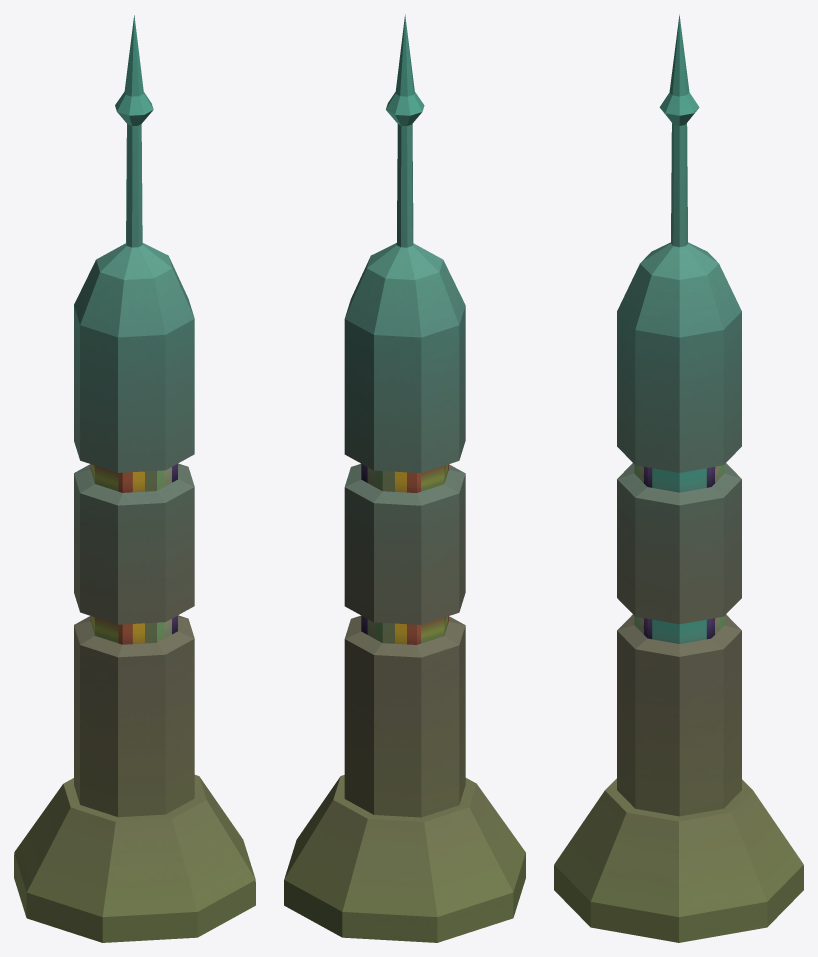
The model's file is depth_temple.glb.
The picture shows the model from 3 angles, left to right: view 1: azimuth 30°, elevation 25°; view 2: azimuth 150°, elevation 25°; view 3: azimuth 270°, elevation 25°; orthographic projection.
Parts seen in each view (by area): view 1: Depth_structureB; view 2: Depth_structureB; view 3: Depth_structureB.
Part boxes in pixels (box(x1,y1,x2,y2)): Depth_structureB: box(14, 15, 255, 942); Depth_structureB: box(284, 14, 525, 942); Depth_structureB: box(554, 14, 803, 942).
Size of the model in its own units: 2.17 by 8.4 by 2.17.
Materials: 1 (1 with a texture image).
